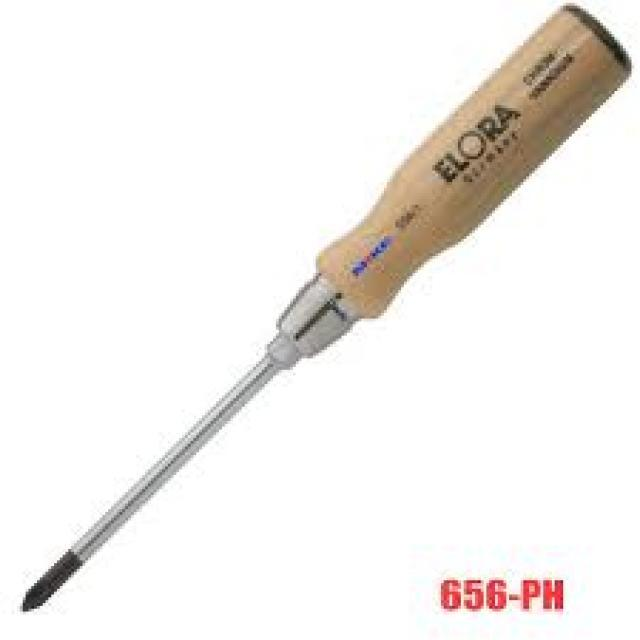screwdriver: (17, 4, 629, 616)
